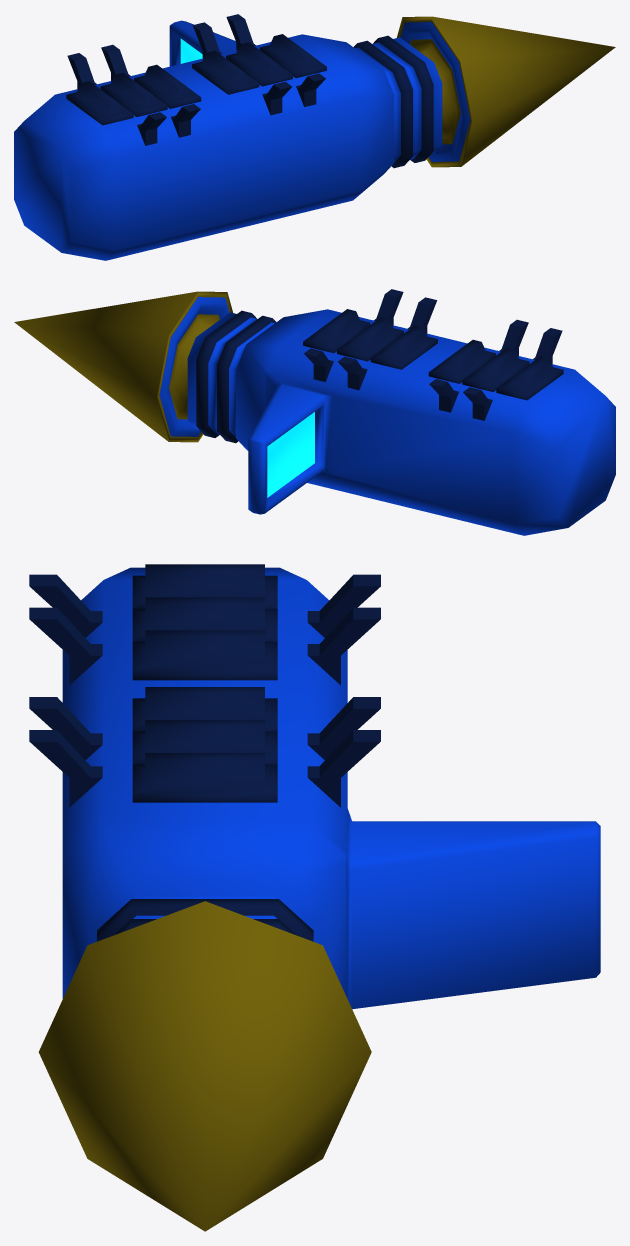
File: drillTier2.fbx
3 views of the same model, one above another, from view 1: azimuth 30°, elevation 25°; view 2: azimuth 150°, elevation 25°; view 3: azimuth 270°, elevation 25° (orthographic). The views are drawn at different scales.
Parts seen in each view (by area): view 1: drillT2Body, drillT2; view 2: drillT2Body, drillT2; view 3: drillT2Body, drillT2.
Part boxes in pixels (x1,y1,x2,y2): drillT2Body: (14, 14, 442, 260); drillT2: (397, 16, 615, 167); drillT2Body: (187, 289, 615, 535); drillT2: (14, 291, 232, 442); drillT2Body: (29, 564, 600, 1009); drillT2: (38, 901, 371, 1231).
Bounding box in the file's own units: 114 × 30.11 × 49.42.
